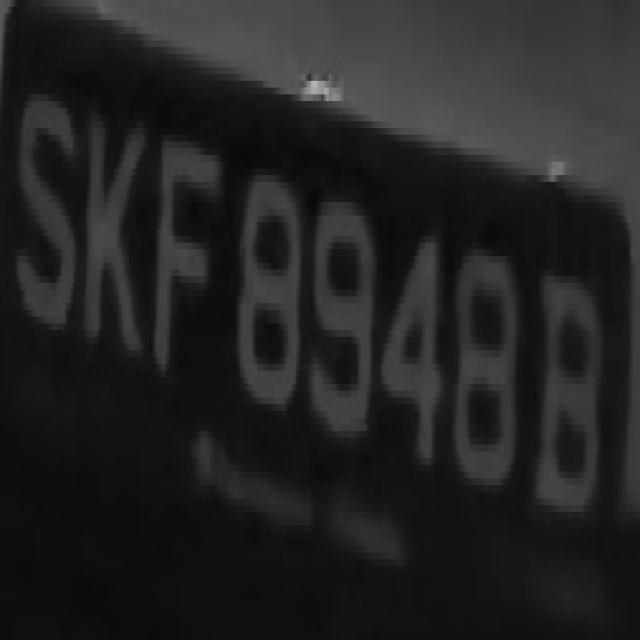4: (367, 216, 448, 492)
8: (230, 148, 304, 445), (448, 216, 521, 492)
9: (306, 162, 367, 458)
B: (536, 249, 600, 532)
F: (154, 101, 220, 398)
K: (71, 88, 144, 384)
S: (13, 60, 73, 344)
